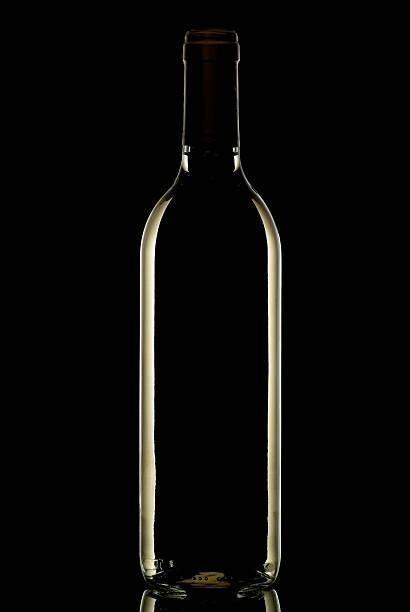bottle-glass: (133, 24, 288, 597)
